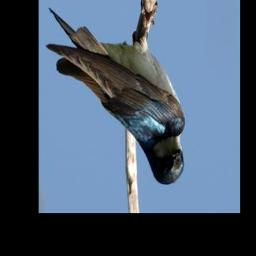Swallow: (45, 0, 186, 185)
